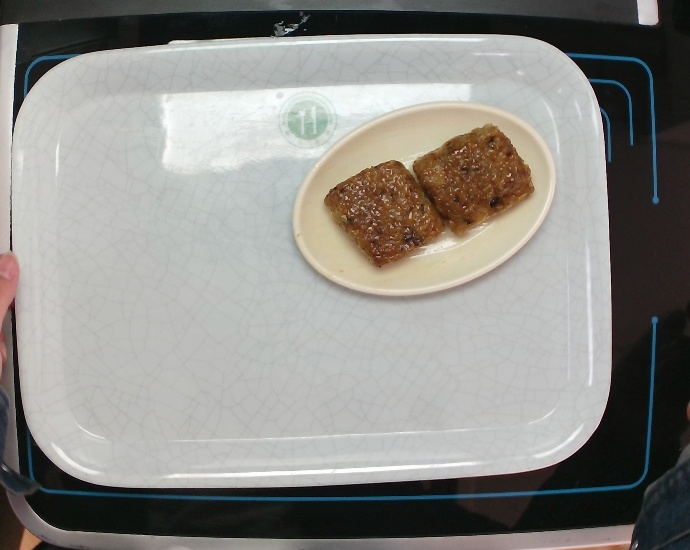JYsf-Tuo_Yuan_Wan: (283, 97, 560, 302)
